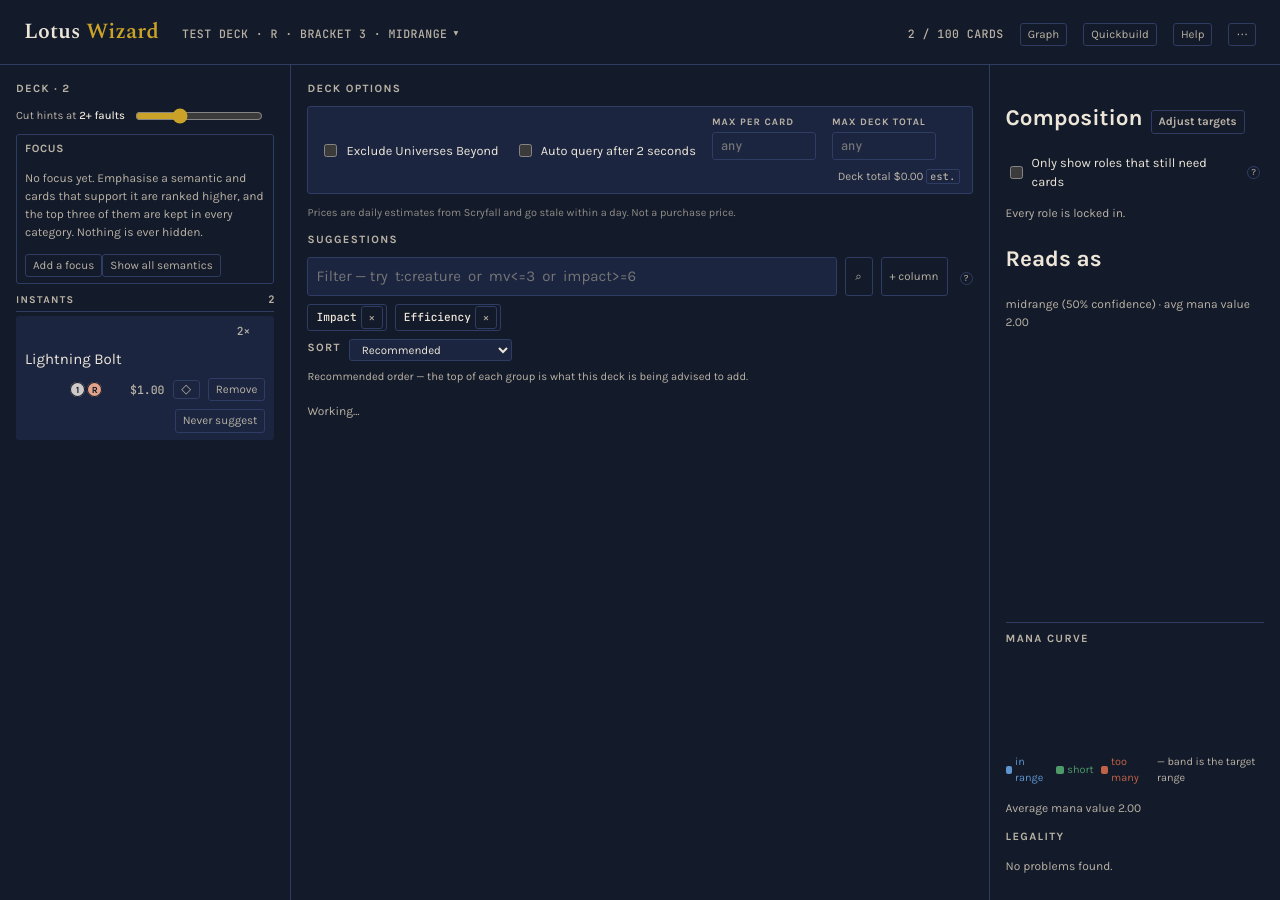
Test: the deck rail — remove is not reject (ADR-0051) › takes ONE copy, so a two-copy line becomes a one-copy line
The width and height of the screenshot is (1280, 900).
Expected: the button with aria-label "Preview Lightning Bolt" is shown, [25, 348, 266, 370]
Expected: the text "2×" is shown, [237, 324, 250, 338]
Click the button with aria-label "Remove one copy of Lightning Bolt" at point(237, 390), box [208, 378, 265, 401]
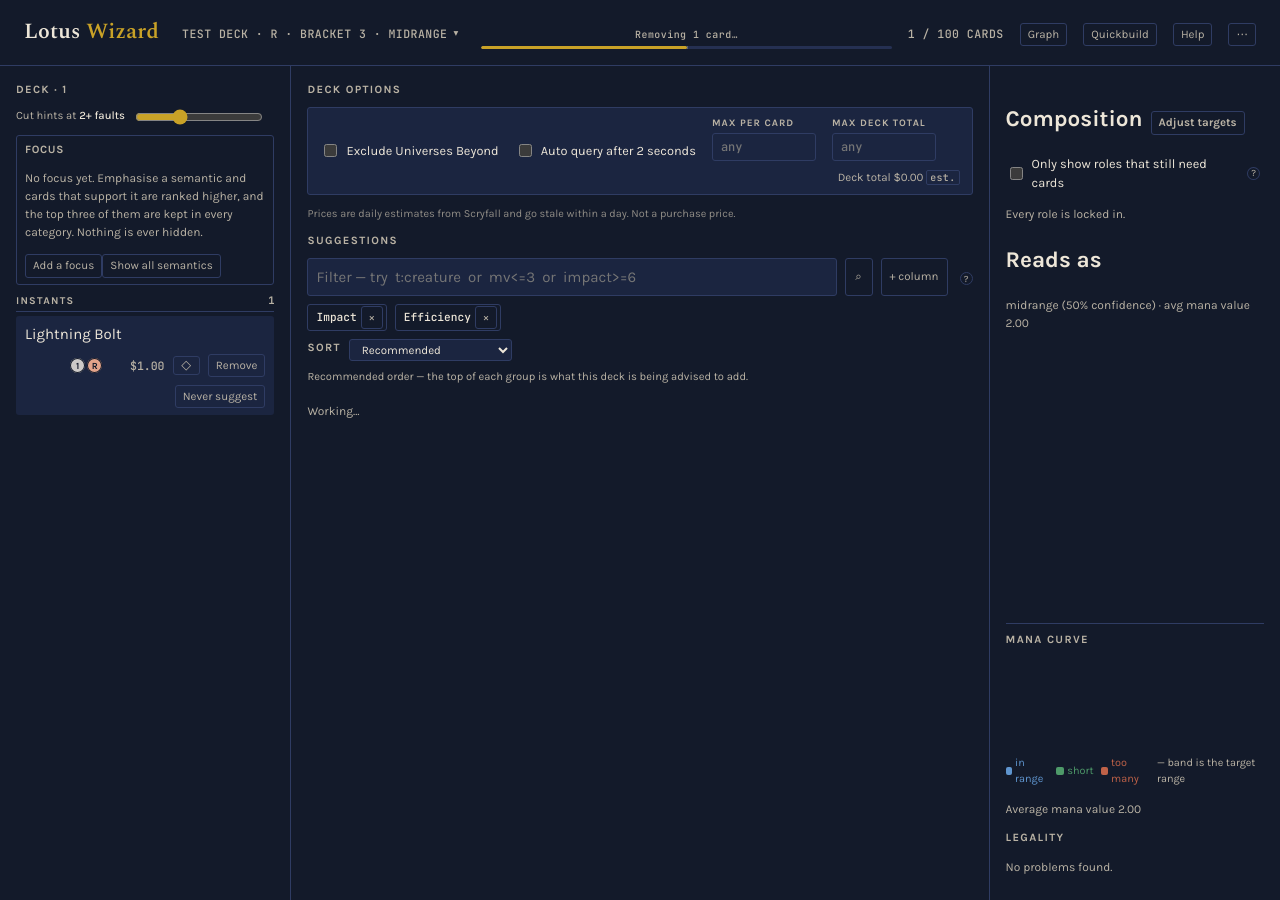
Expected: the button with aria-label "Preview Lightning Bolt" is shown, [25, 323, 266, 346]
Now the text "2×" is gone
